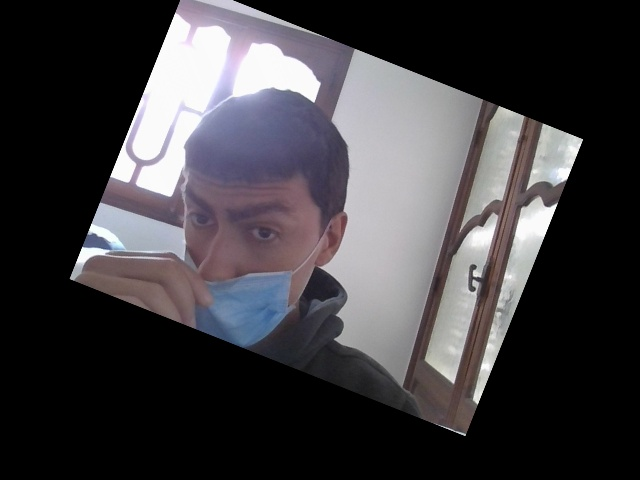mask_weared_incorrect: (162, 146, 314, 352)
